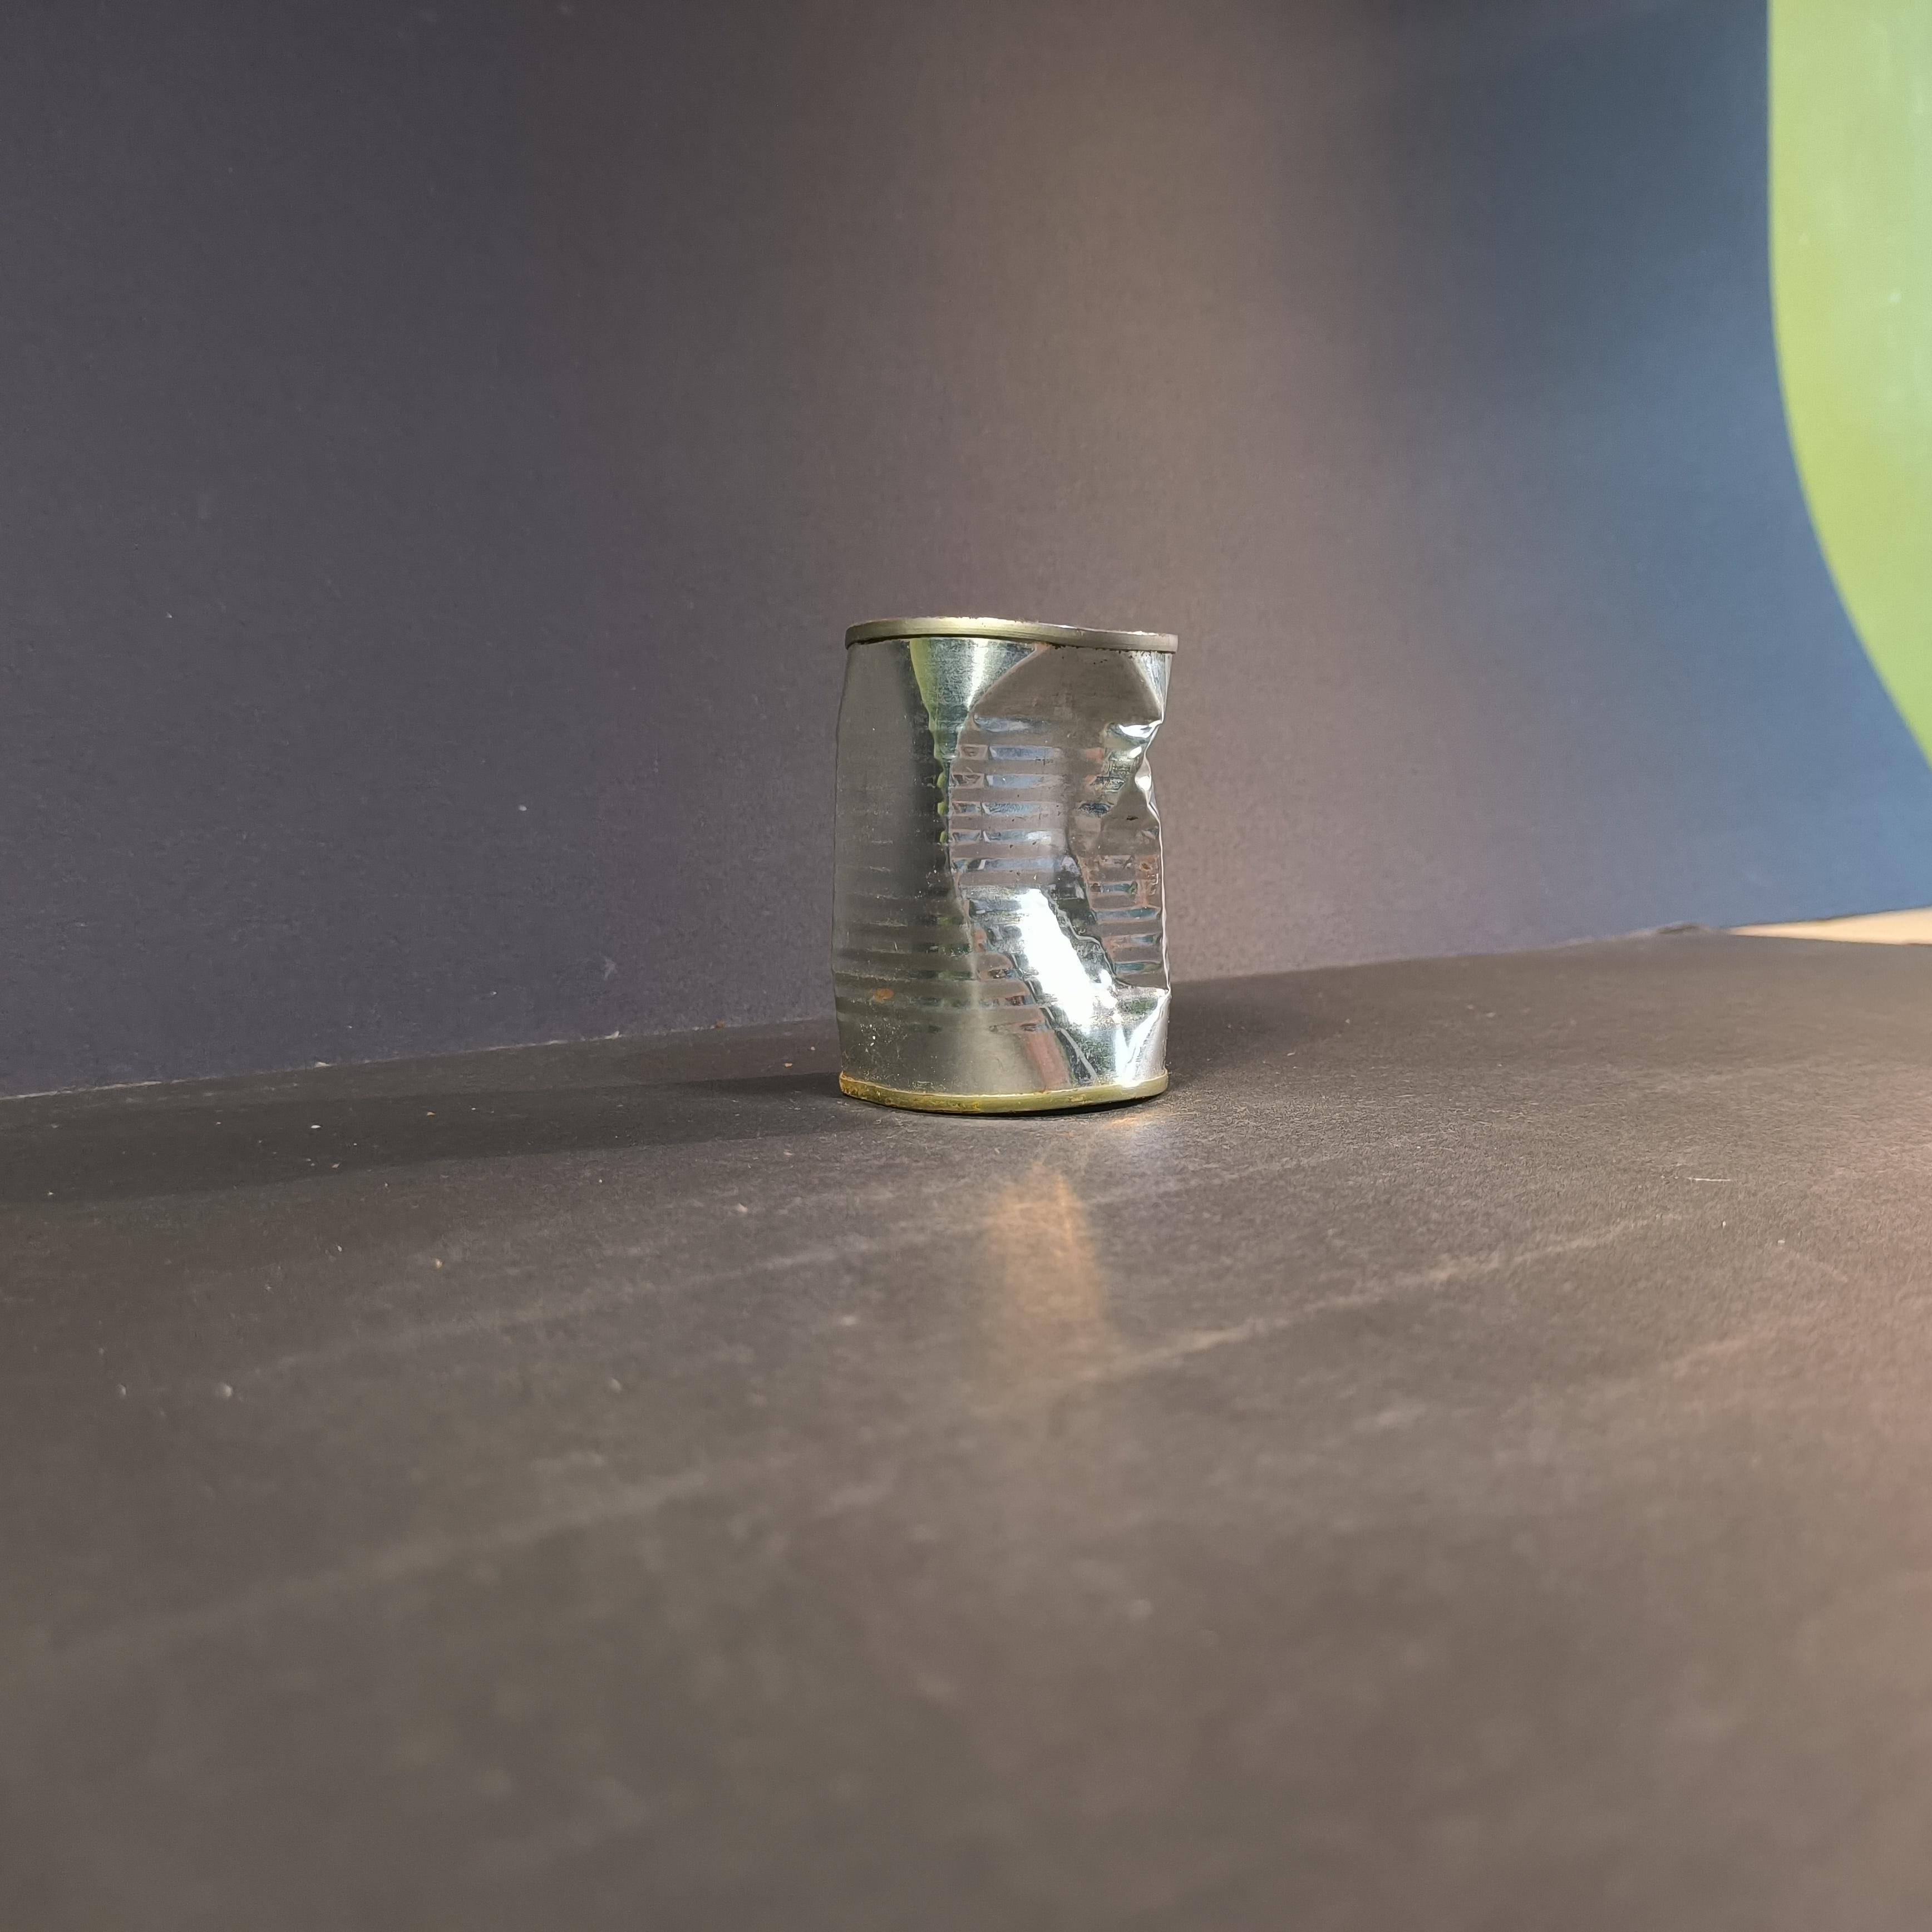Dented: (803, 570, 1224, 1148)
